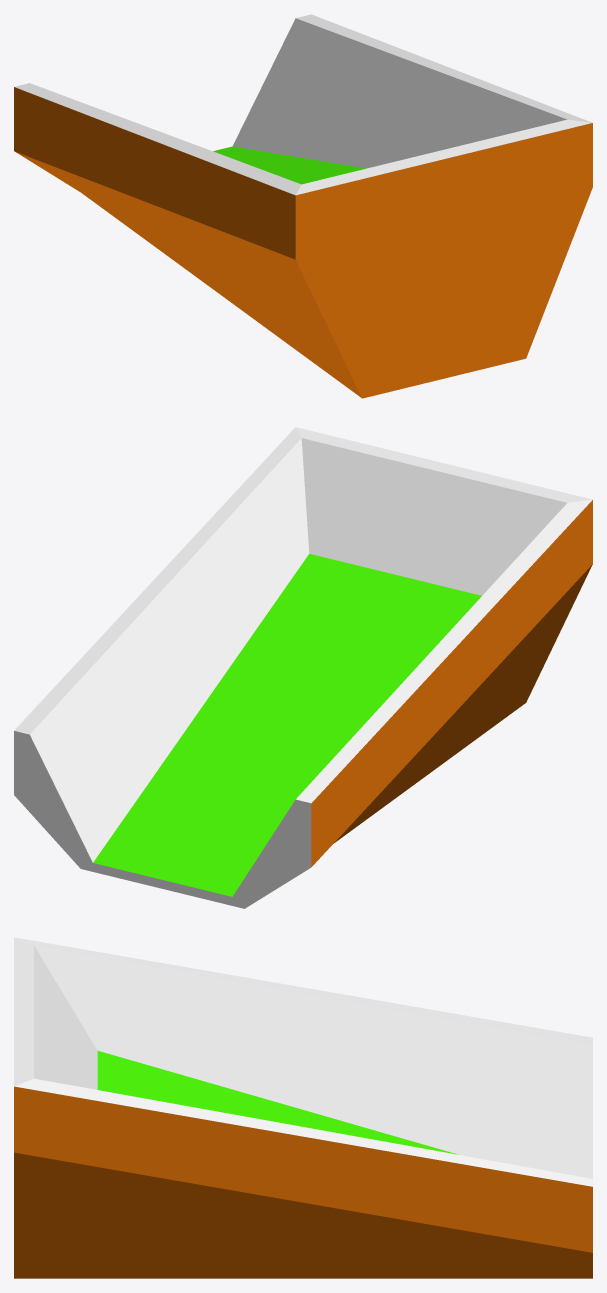
File: LuggageStartingBin.fbx
3 views of the same model, one above another, from view 1: azimuth 30°, elevation 25°; view 2: azimuth 150°, elevation 25°; view 3: azimuth 270°, elevation 25° (orthographic). The views are drawn at different scales.
Parts seen in each view (by area): view 1: LuggageStartingBin; view 2: LuggageStartingBin; view 3: LuggageStartingBin.
Boxes of the visible parts, x1,y1,x2,y2 form: LuggageStartingBin: (14, 14, 592, 398); LuggageStartingBin: (14, 427, 592, 908); LuggageStartingBin: (14, 937, 592, 1278).
Bounding box in the file's own units: 258 × 182 × 423.
1 material, 1 textured.
